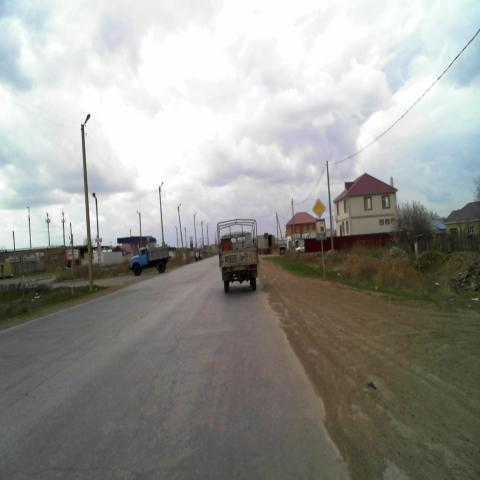7_3: (316, 219, 326, 241)
